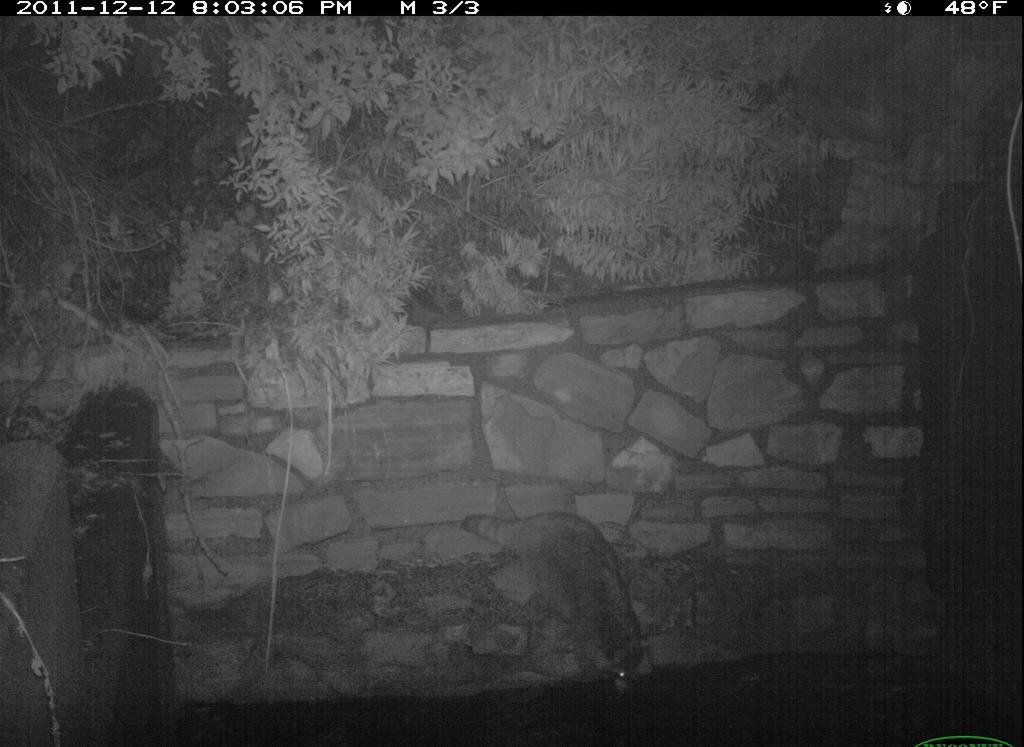raccoon: (451, 498, 661, 697)
